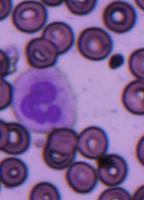N: (12, 67, 76, 132)
